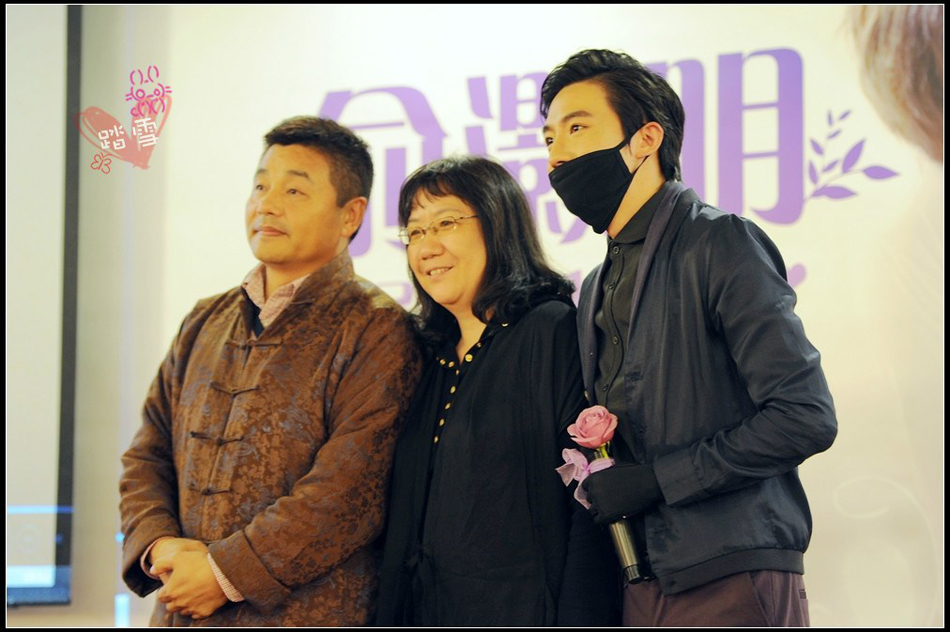face: (242, 146, 331, 258), (406, 188, 485, 304)
face_mask: (543, 82, 643, 219)
